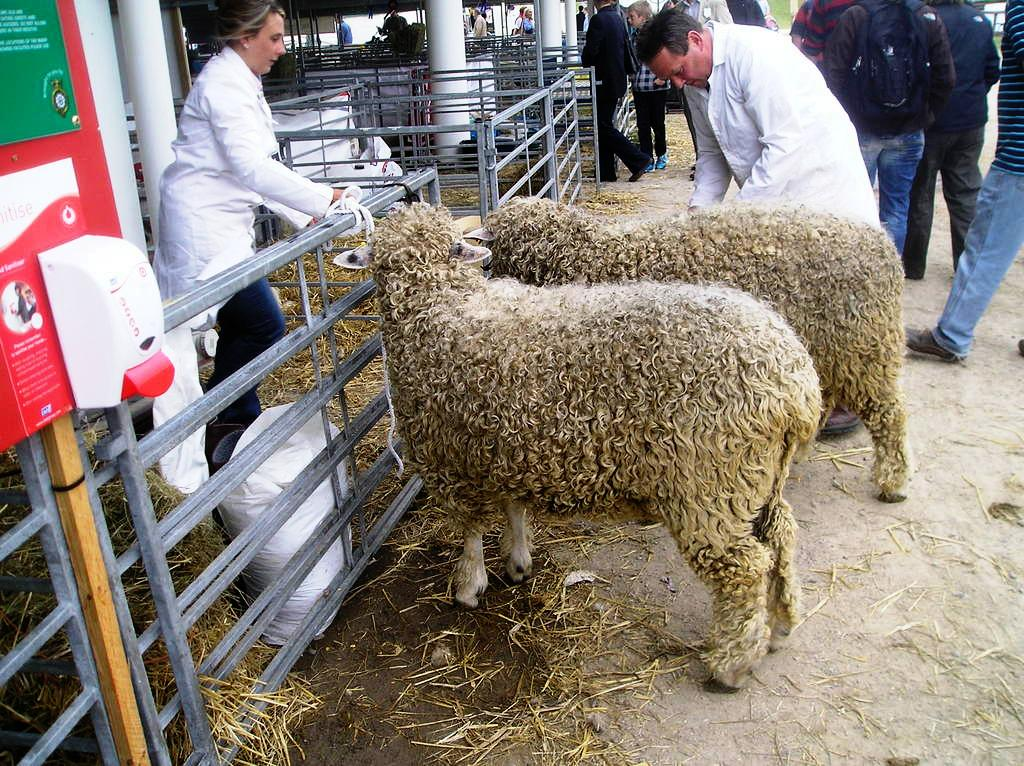Sheep: (323, 196, 831, 633), (459, 190, 904, 508)
